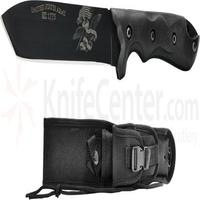knife: (1, 1, 200, 70)
